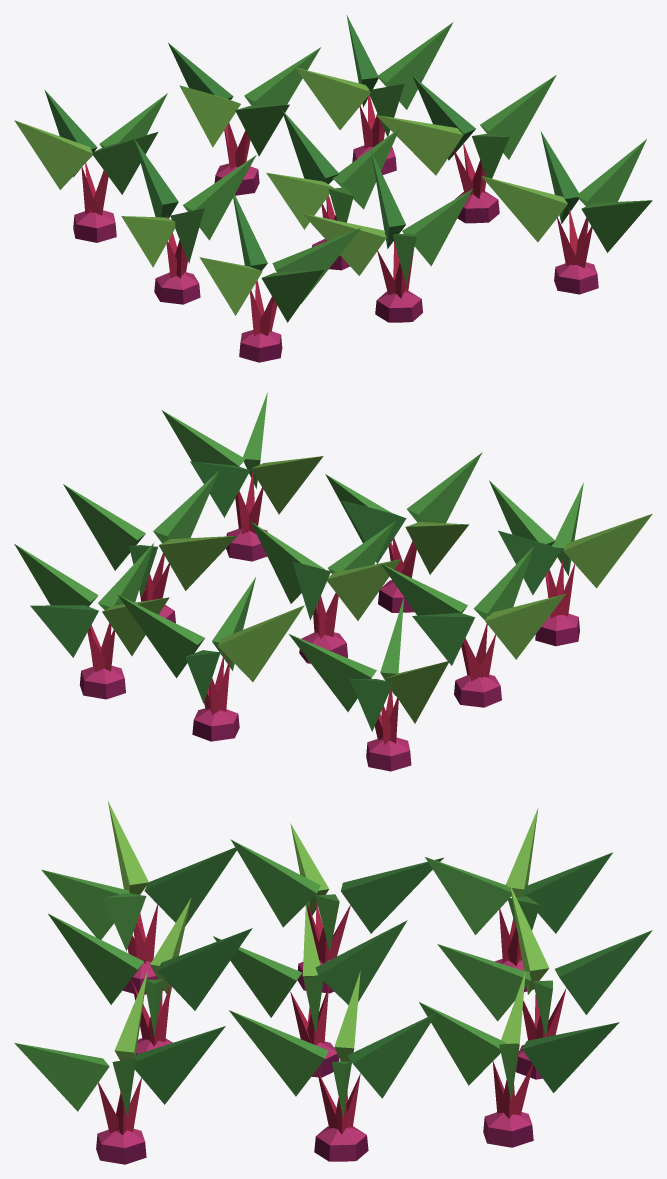
File: beet-3.glb
The picture shows the model from 3 angles, top to bottom: view 1: azimuth 30°, elevation 25°; view 2: azimuth 150°, elevation 25°; view 3: azimuth 270°, elevation 25°; orthographic projection. The views are drawn at different scales.
Parts seen in each view (by area): view 1: beet-3; view 2: beet-3; view 3: beet-3.
Part boxes in pixels (x1=…): beet-3: x1=14, y1=15, x2=652, y2=362; beet-3: x1=14, y1=392, x2=652, y2=771; beet-3: x1=14, y1=801, x2=652, y2=1164.
Size of the model in its own units: 0.7775 by 0.2208 by 0.8218.
1 material, 1 textured.
